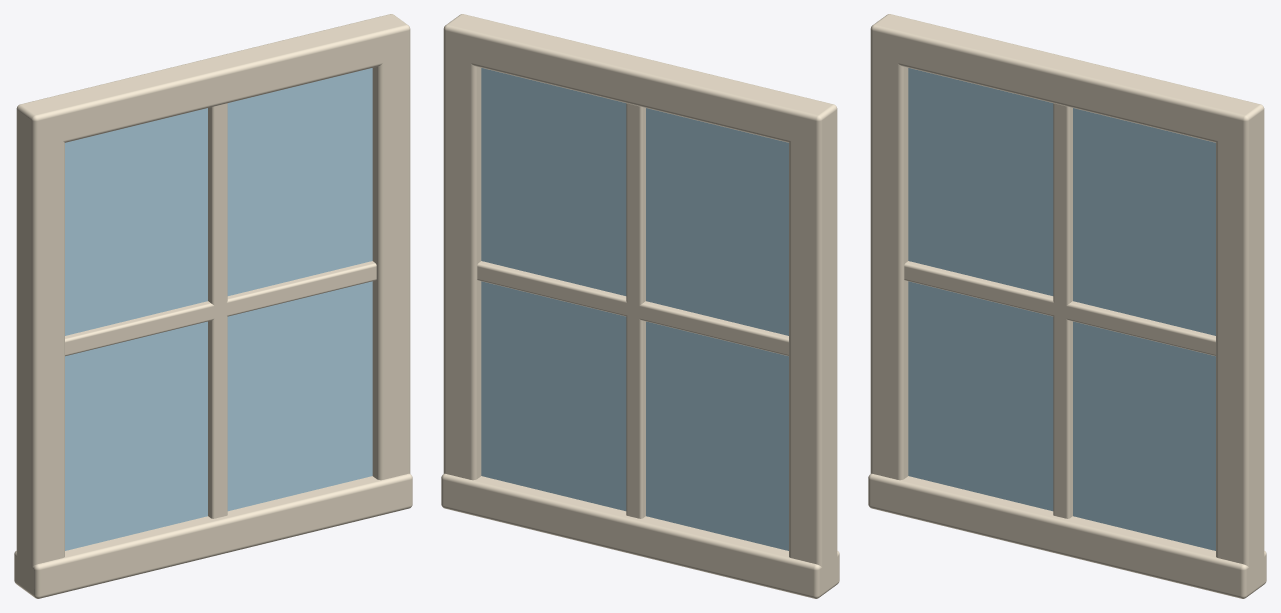
Rendered from window.glb.
3 renders of one model, left to right at view 1: azimuth 30°, elevation 25°; view 2: azimuth 150°, elevation 25°; view 3: azimuth 330°, elevation 25°, orthographic.
Visible parts, largest first — view 1: Pane, Left, Top, Right, Bottom, BarV, BarH; view 2: Pane, Left, Top, Right, Bottom, BarV, BarH; view 3: Pane, Right, Top, Left, Bottom, BarV, BarH.
Part boxes in pixels (x1=…): Pane: x1=65, y1=68, x2=372, y2=550; Left: x1=16, y1=120, x2=64, y2=567; Top: x1=16, y1=14, x2=410, y2=147; Right: x1=372, y1=39, x2=410, y2=480; Bottom: x1=14, y1=473, x2=412, y2=598; BarV: x1=208, y1=103, x2=227, y2=518; BarH: x1=65, y1=261, x2=376, y2=356; Pane: x1=481, y1=68, x2=788, y2=550; Left: x1=789, y1=124, x2=837, y2=567; Top: x1=443, y1=14, x2=837, y2=147; Right: x1=443, y1=38, x2=481, y2=480; Bottom: x1=441, y1=473, x2=839, y2=598; BarV: x1=626, y1=103, x2=645, y2=518; BarH: x1=477, y1=261, x2=788, y2=356; Pane: x1=908, y1=68, x2=1215, y2=550; Right: x1=1216, y1=124, x2=1264, y2=567; Top: x1=870, y1=14, x2=1264, y2=147; Left: x1=870, y1=38, x2=908, y2=480; Bottom: x1=868, y1=473, x2=1266, y2=598; BarV: x1=1053, y1=103, x2=1072, y2=518; BarH: x1=904, y1=261, x2=1215, y2=356.
Size of the model in its own units: 0.46 by 0.56 by 0.05.
